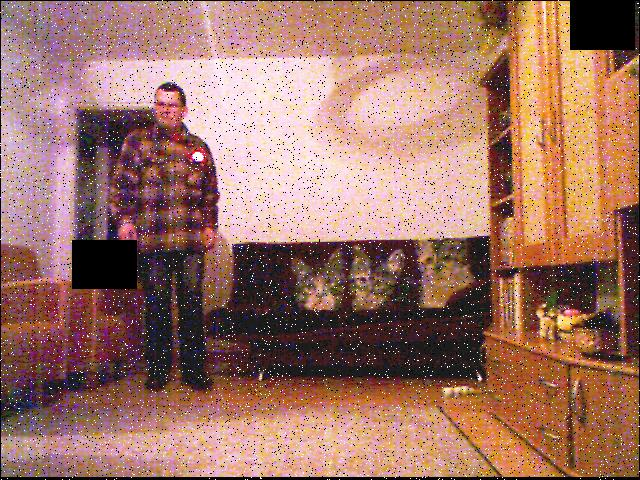walking: (98, 44, 242, 422)
